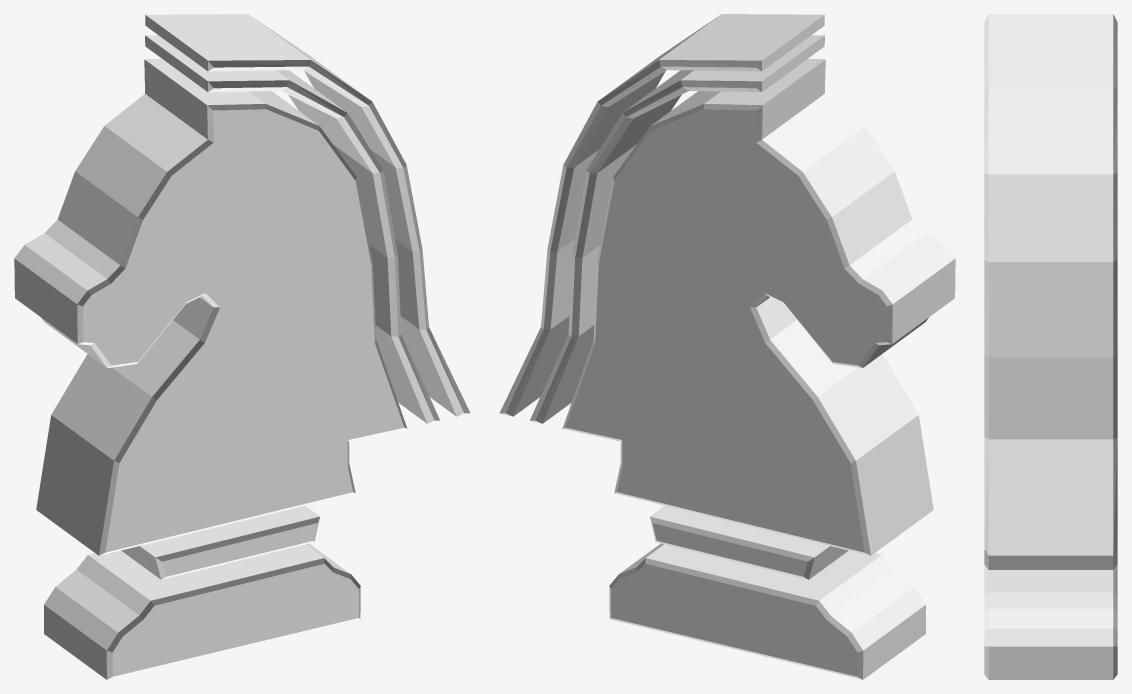
The model's file is iconView.ico.obj.
3 views of the same model, side by side, from view 1: azimuth 30°, elevation 25°; view 2: azimuth 150°, elevation 25°; view 3: azimuth 270°, elevation 25° (orthographic).
Size of the model in its own units: 3.37 by 4.88 by 0.9951.
Materials: 1 (1 with a texture image).
